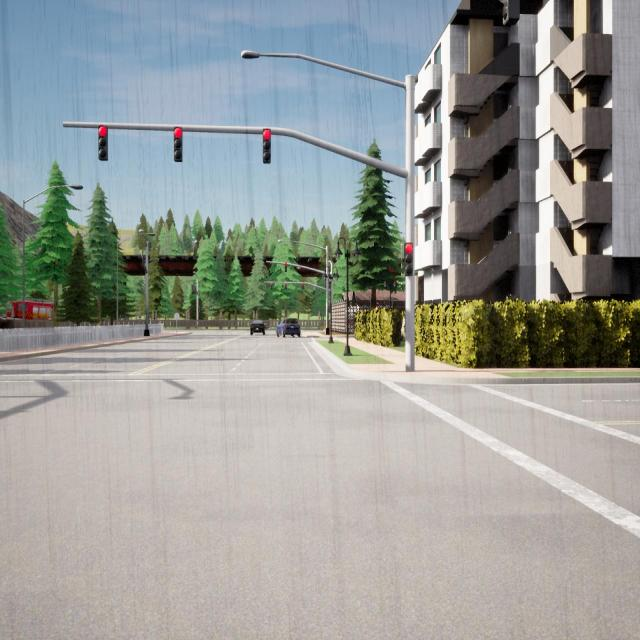Traffic_Signs: (174, 313, 180, 320)
Vehicle: (6, 298, 54, 320), (276, 318, 301, 338), (250, 319, 265, 336)
traffic_light: (500, 0, 520, 26), (99, 125, 108, 160), (404, 242, 413, 276), (174, 126, 182, 162), (263, 129, 271, 163), (285, 263, 287, 272), (270, 282, 272, 290), (285, 282, 287, 290), (302, 283, 304, 290), (198, 307, 200, 313), (192, 285, 193, 291), (193, 286, 194, 292)
